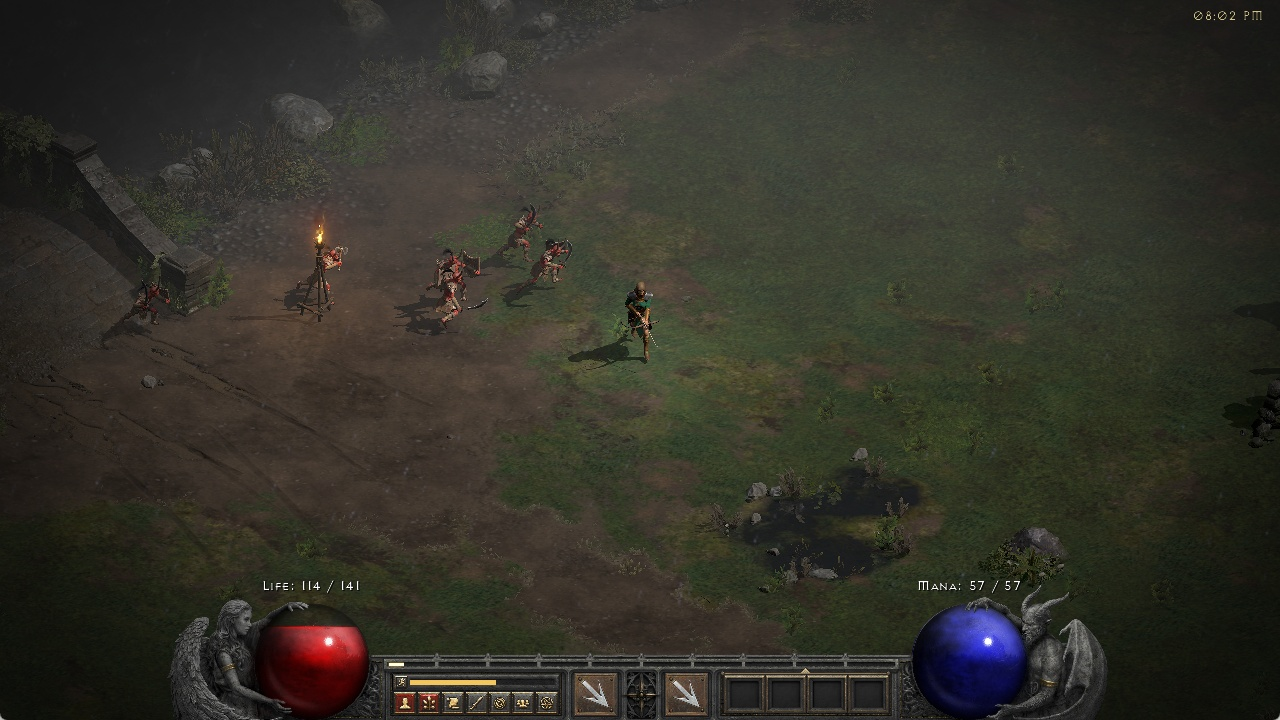fallen: (531, 232, 577, 289), (429, 278, 472, 336), (128, 275, 173, 329), (309, 244, 355, 294), (501, 204, 541, 245), (429, 244, 476, 275)
